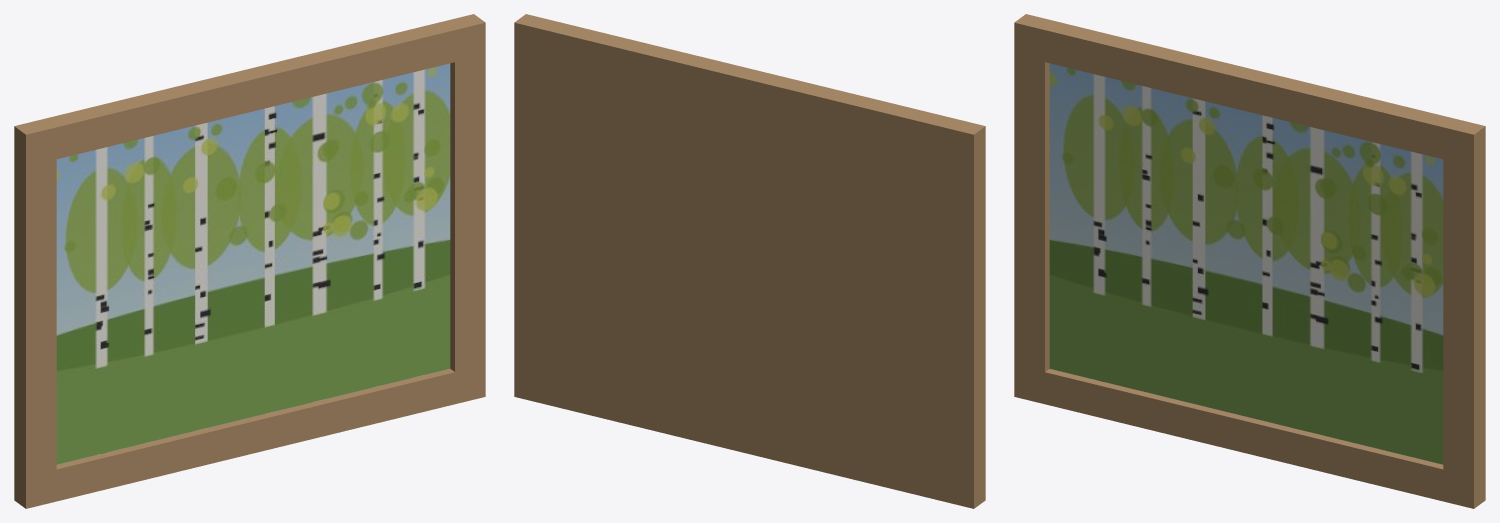
Rendered from painting.glb.
3 views of the same model, side by side, from view 1: azimuth 30°, elevation 25°; view 2: azimuth 150°, elevation 25°; view 3: azimuth 330°, elevation 25° (orthographic).
Visible parts, largest first — view 1: painting; view 2: painting; view 3: painting.
Part boxes in pixels (left/top/right/bottom): painting: left=14, top=14, right=485, bottom=508; painting: left=514, top=14, right=985, bottom=508; painting: left=1014, top=14, right=1485, bottom=508.
Bounding box in the file's own units: 0.9 × 0.7 × 0.04.
2 materials, 1 textured.
